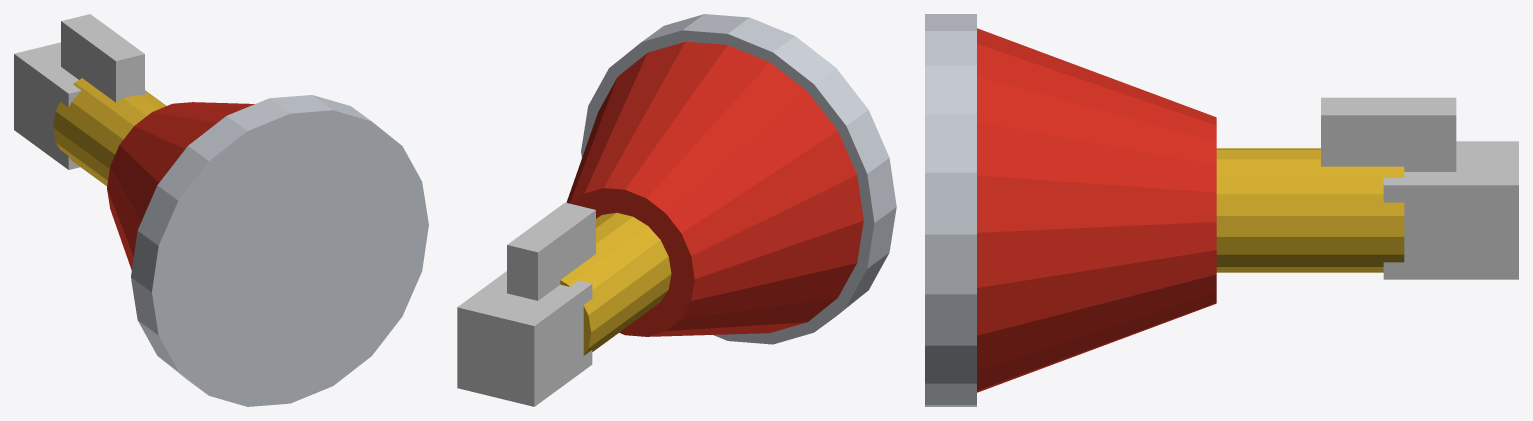
The model's file is nuclear_horn_component.obj.
3 renders of one model, left to right at view 1: azimuth 30°, elevation 25°; view 2: azimuth 150°, elevation 25°; view 3: azimuth 270°, elevation 25°, orthographic. The views are drawn at different scales.
Parts seen in each view (by area): view 1: nuclear_horn_component; view 2: nuclear_horn_component; view 3: nuclear_horn_component.
Part boxes in pixels (x1=…): nuclear_horn_component: x1=14, y1=14, x2=428, y2=406; nuclear_horn_component: x1=457, y1=14, x2=896, y2=406; nuclear_horn_component: x1=925, y1=14, x2=1518, y2=406.
Size of the model in its own units: 0.76 by 0.76 by 1.14.
